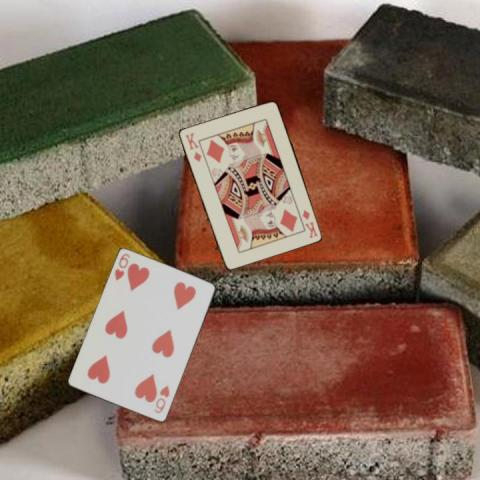6h: (111, 251, 132, 282), (152, 382, 172, 414)
Kd: (293, 206, 319, 240), (182, 130, 203, 164)
